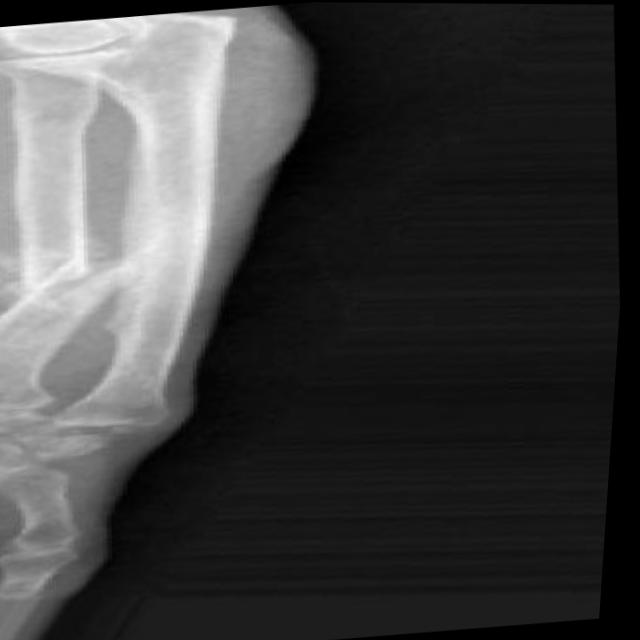fracture: (0, 261, 145, 312)
